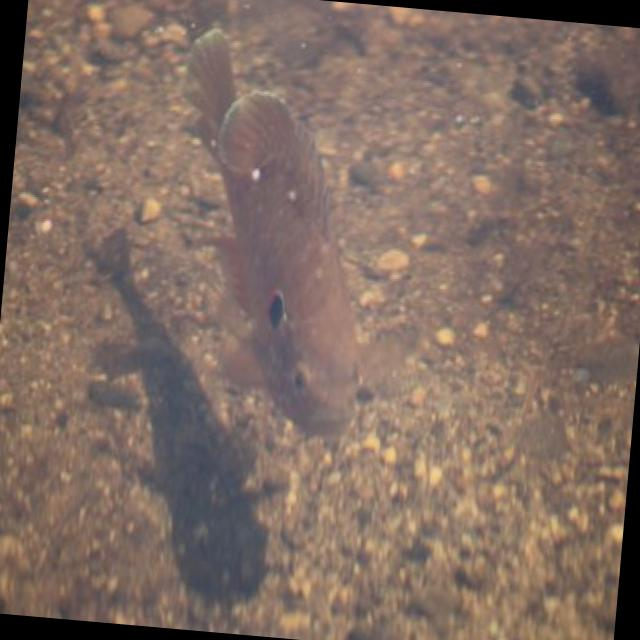Gunes Levregi: (144, 16, 402, 453)
